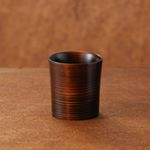cups: (45, 49, 108, 125)
